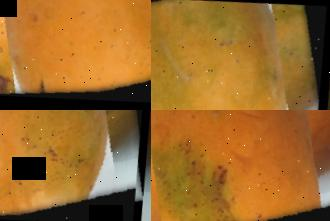PartiallyRipe: (151, 0, 330, 110), (0, 0, 151, 110)
Ripe: (151, 110, 330, 221), (0, 110, 150, 221)
